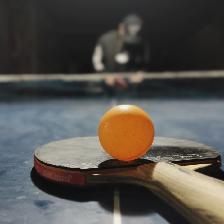YellowBall: (97, 103, 154, 160)
